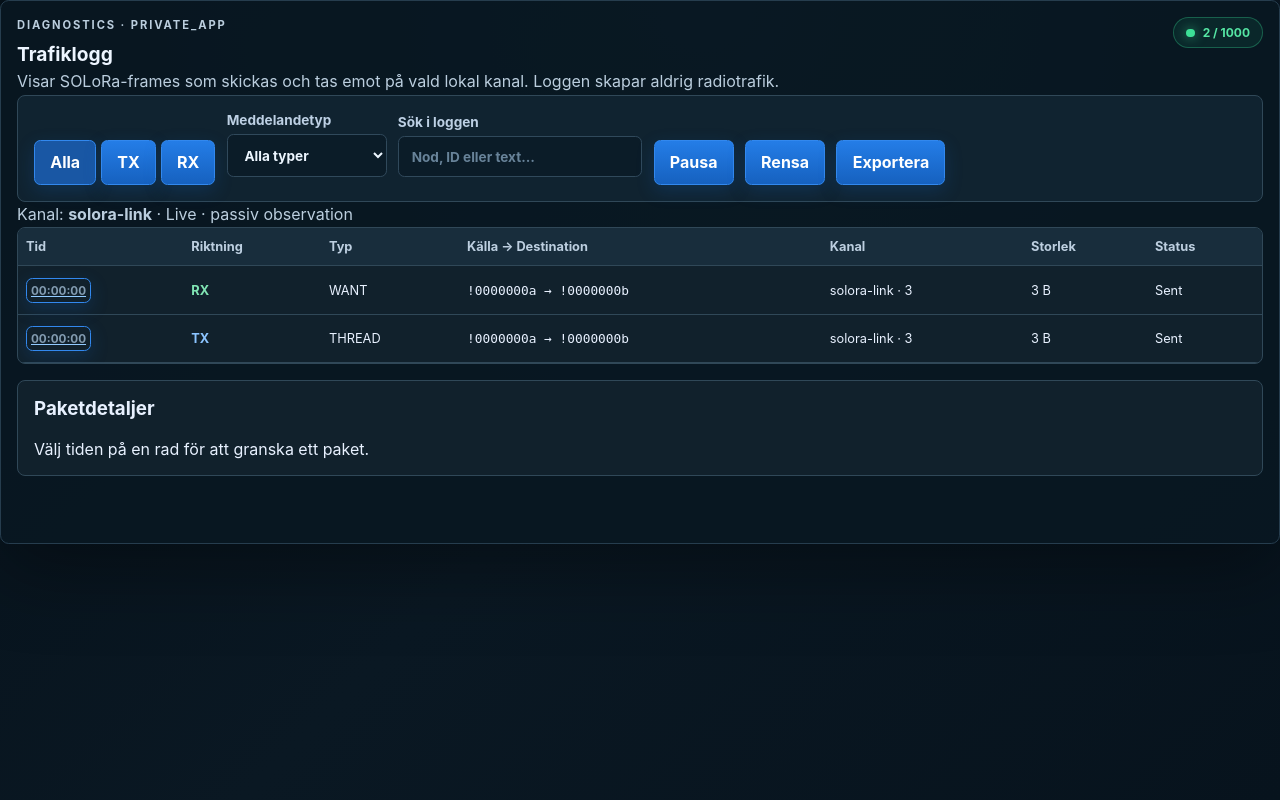
Traffic Log › filters direction, registry type and node/text search locally
Click the button "RX".
click(188, 162)  # box [161,140,216,184]
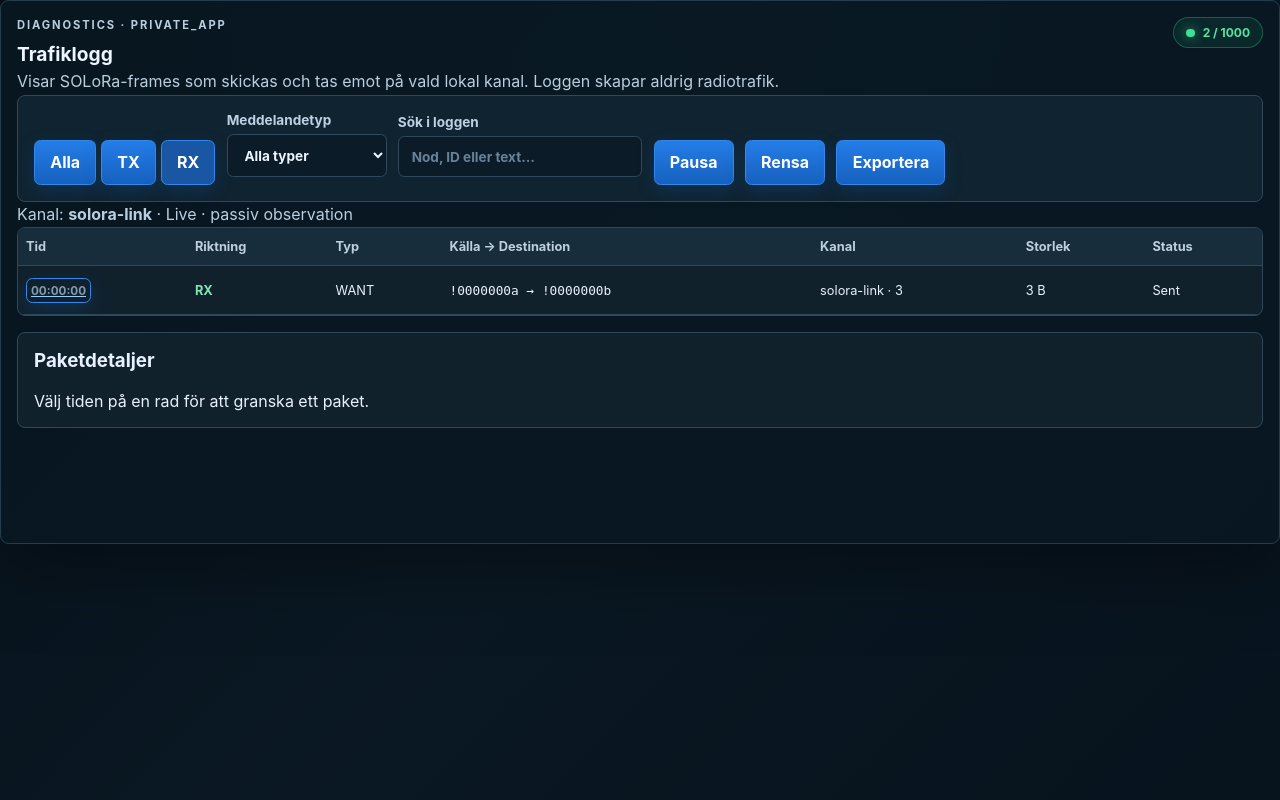
Select "THREAD" in the dropdown labelled "Meddelandetyp" at (307, 156), box [227,134,387,177]
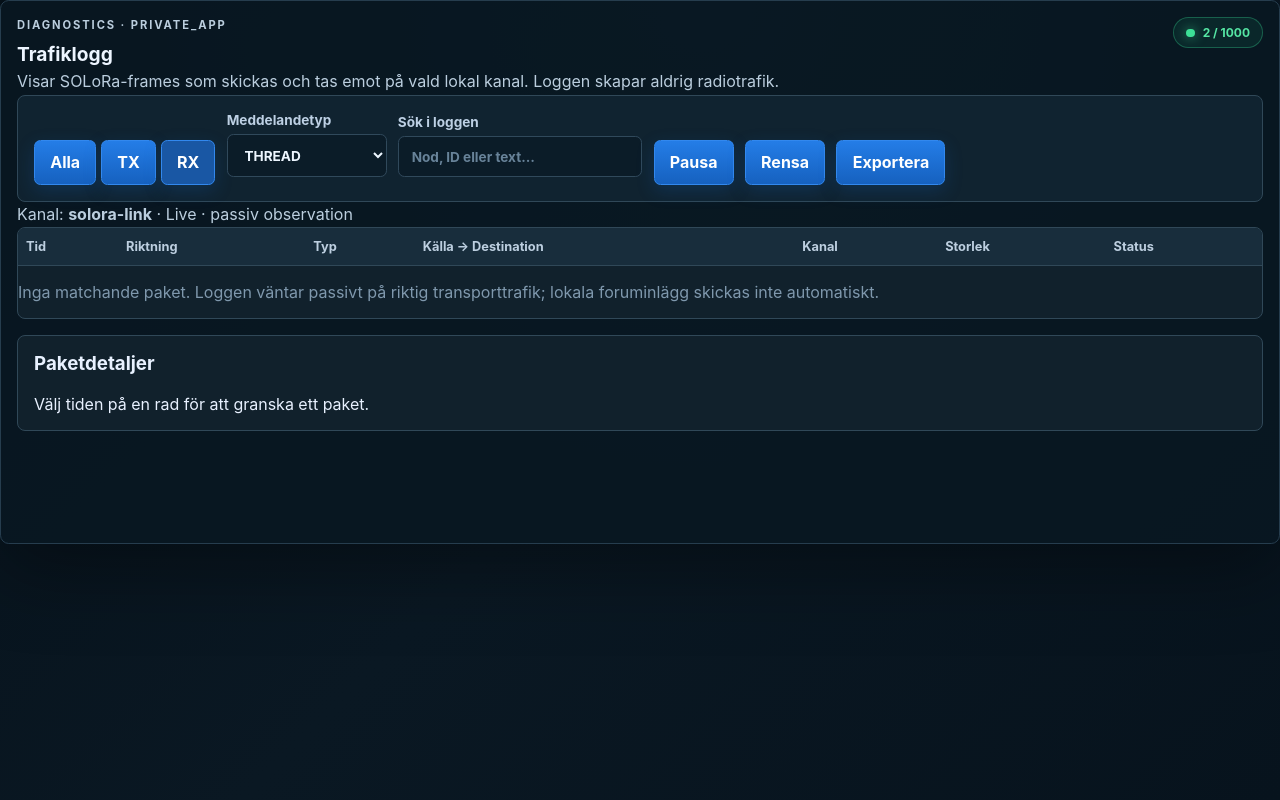
Click the button "Alla".
click(65, 162)  # box [34,140,96,184]
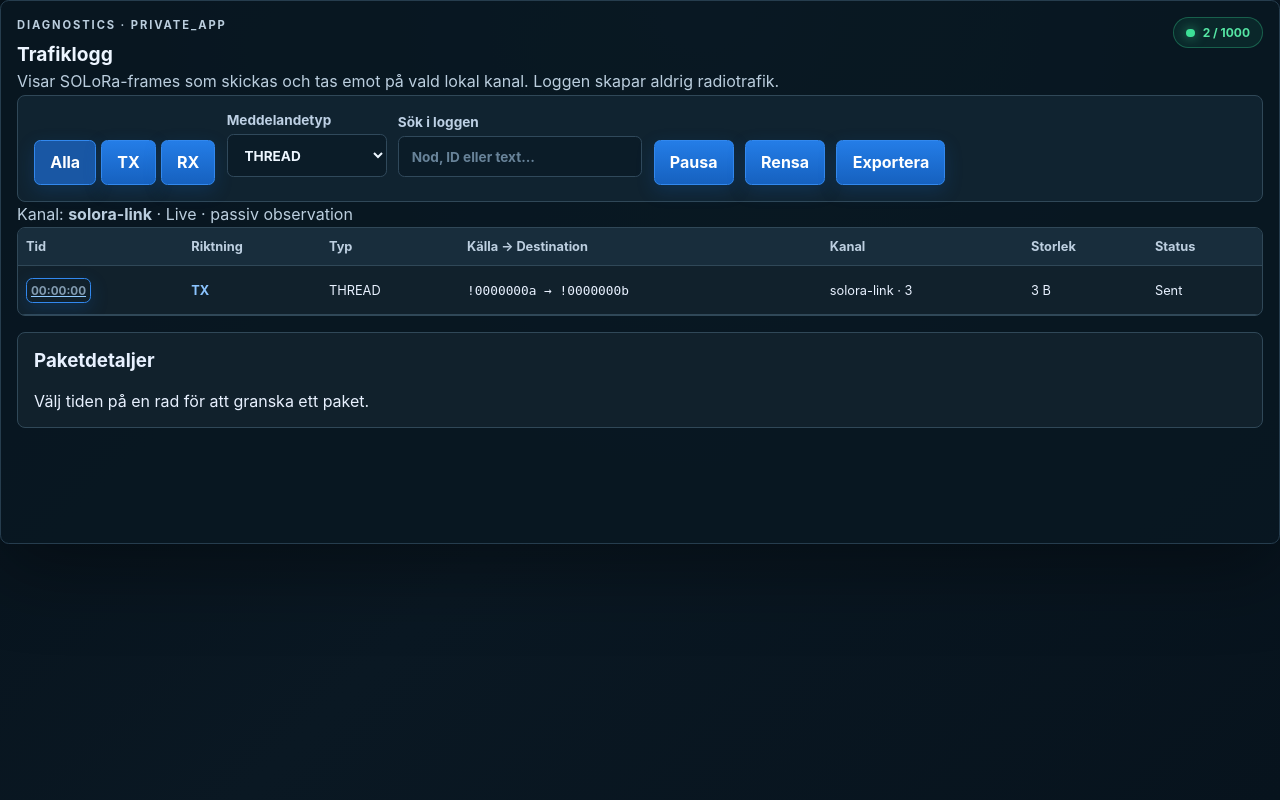
Type "!0000000a" into the search field labelled "Sök i loggen".
click(520, 157); type("!0000000a")  # box [398,136,642,177]
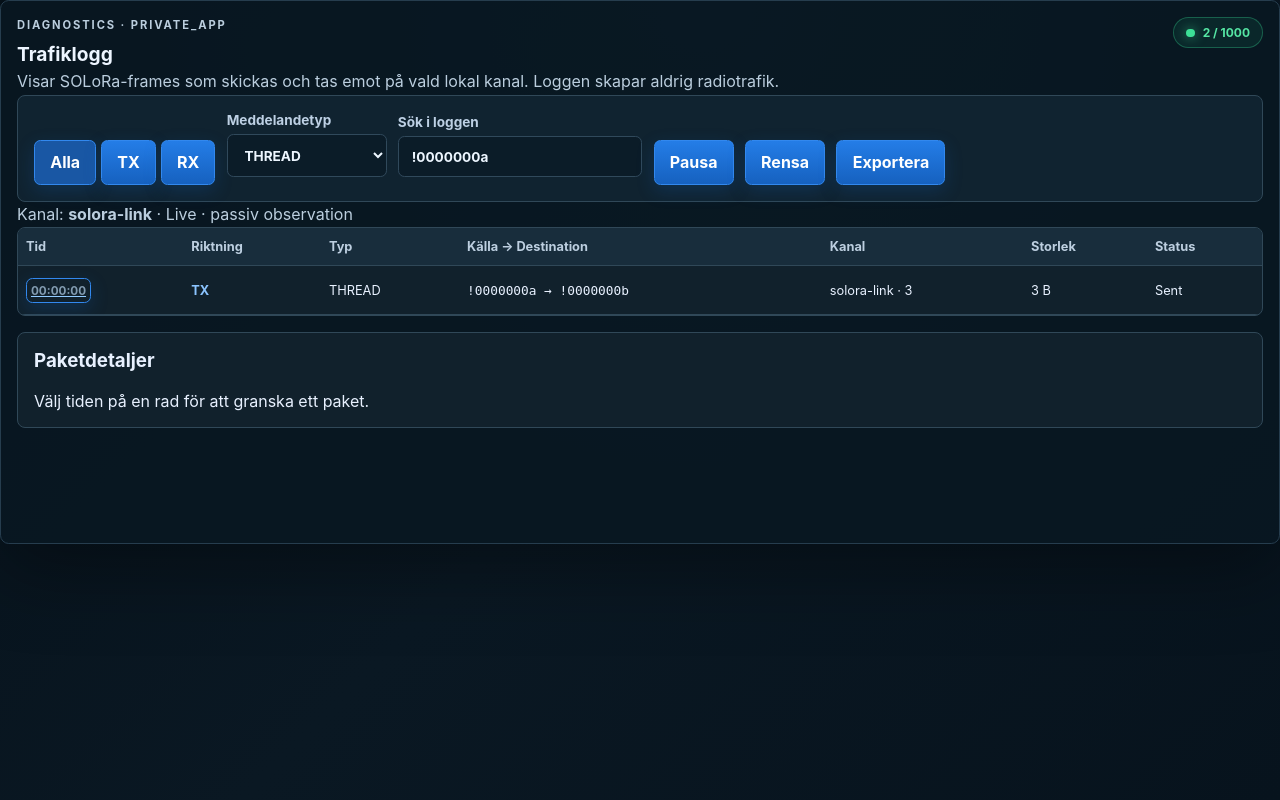
expect the button named "Öppna paket 1" is shown: met, box [26,278,91,303]
Replace the text in the search field labelled "Sök i loggen" with "missing" at (520, 157), box [398,136,642,177]
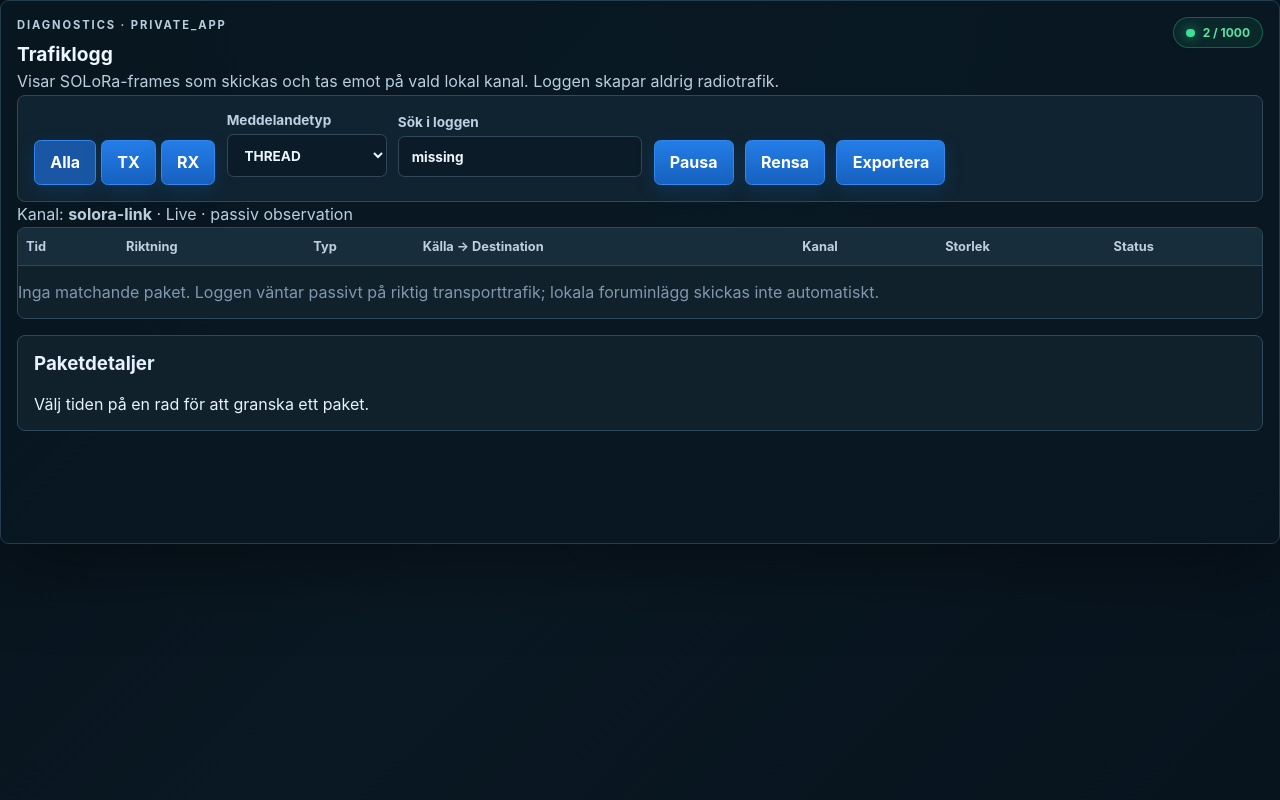
expect the text "Inga matchande paket" is shown: met, box [18,282,879,302]
